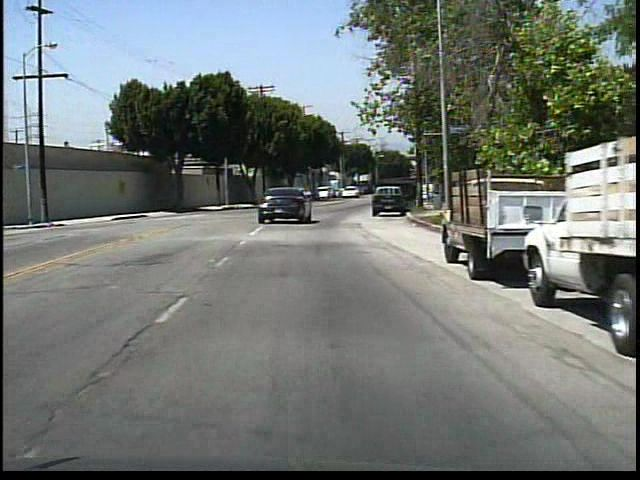car: (466, 174, 563, 286), (256, 183, 315, 223), (370, 185, 401, 222)
strada: (3, 236, 601, 464)
